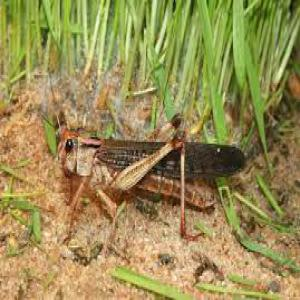locust: (45, 91, 247, 222)
